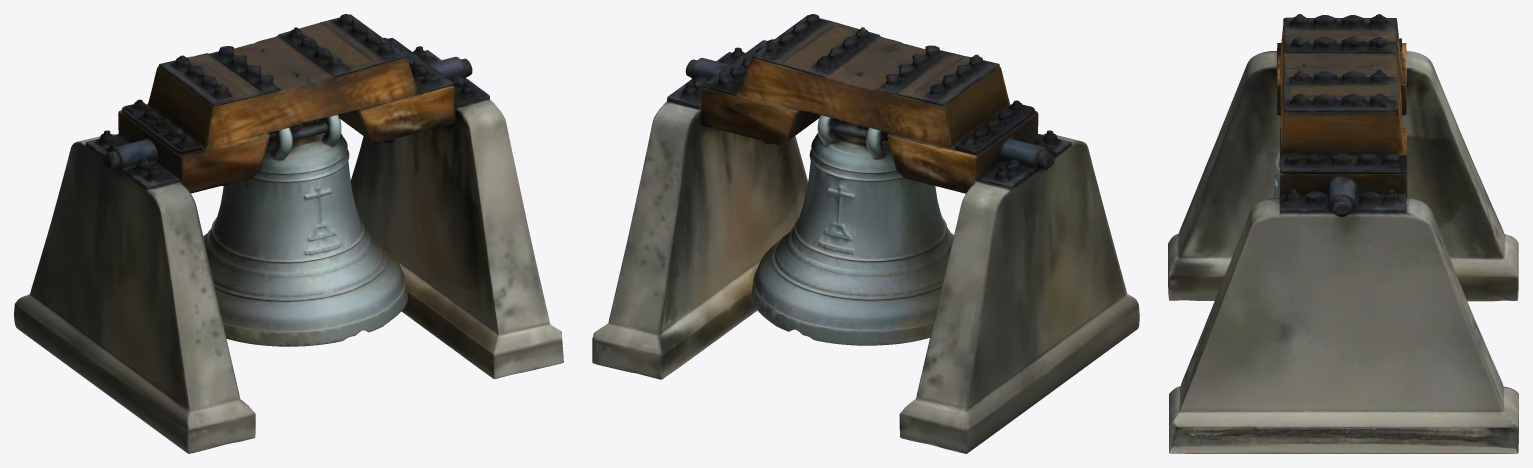
The model's file is Bell-SIN-001-low.glb.
3 renders of one model, left to right at view 1: azimuth 30°, elevation 25°; view 2: azimuth 150°, elevation 25°; view 3: azimuth 270°, elevation 25°, orthographic.
Visible parts, largest first — view 1: node_0; view 2: node_0; view 3: node_0.
Part boxes in pixels (x1,y1,x2,y2): node_0: (14, 14, 563, 453); node_0: (592, 14, 1139, 453); node_0: (1168, 14, 1518, 453).
Size of the model in its own units: 0.8115 by 0.6138 by 0.6437.
Materials: 1 (1 with a texture image).
